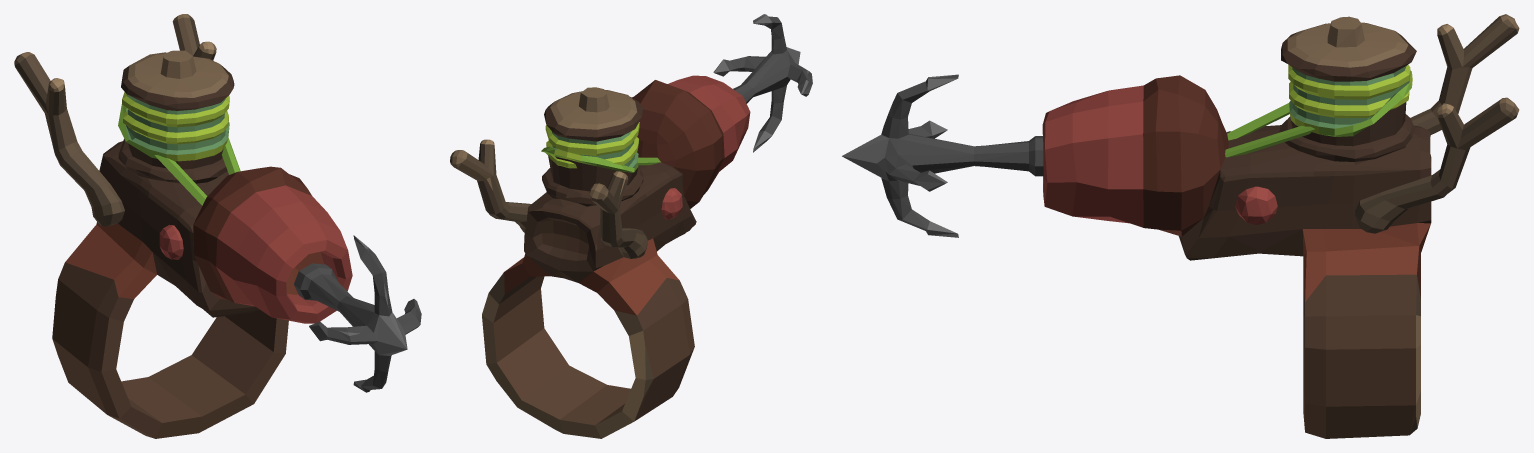
File: VR_Prop_GrappleHook_01a.glb
3 views of the same model, side by side, from view 1: azimuth 30°, elevation 25°; view 2: azimuth 150°, elevation 25°; view 3: azimuth 270°, elevation 25° (orthographic). The views are drawn at different scales.
Visible parts, largest first — view 1: VR_Prop_GrappleHook_01a, VR_SP_Proop_Hook_01a; view 2: VR_Prop_GrappleHook_01a, VR_SP_Proop_Hook_01a; view 3: VR_Prop_GrappleHook_01a, VR_SP_Proop_Hook_01a.
Part boxes in pixels (x1,y1,x2,y2): VR_Prop_GrappleHook_01a: (14,14,352,438); VR_SP_Proop_Hook_01a: (294,235,421,392); VR_Prop_GrappleHook_01a: (450,75,750,438); VR_SP_Proop_Hook_01a: (713,14,812,152); VR_Prop_GrappleHook_01a: (1042,14,1519,438); VR_SP_Proop_Hook_01a: (842,74,1043,237).
Bounding box in the file's own units: 0.0671 × 0.1195 × 0.1837.
1 material, 1 textured.
